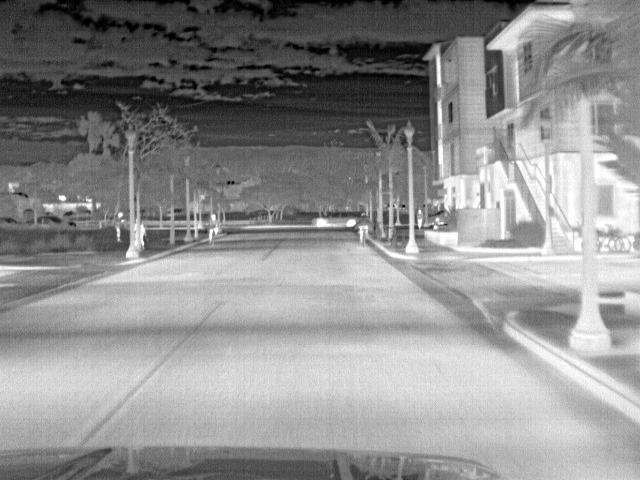car: (310, 209, 357, 227), (35, 213, 59, 226), (427, 209, 444, 225)
person: (357, 210, 370, 244), (112, 211, 125, 242), (207, 213, 219, 240), (415, 207, 425, 229)
